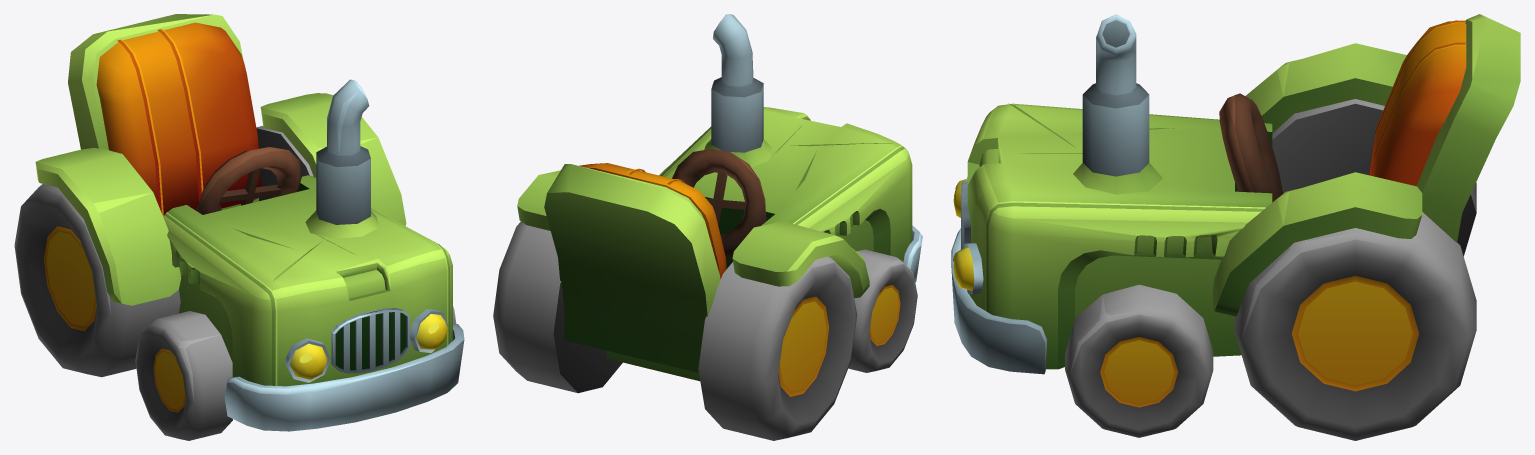
The model's file is truck_001.fbx.
3 views of the same model, side by side, from view 1: azimuth 30°, elevation 25°; view 2: azimuth 150°, elevation 25°; view 3: azimuth 270°, elevation 25° (orthographic). The views are drawn at different scales.
Visible parts, largest first — view 1: truck.001, truckwheel.003, truckwheel.002, trucktorus.001; view 2: truck.001, truckwheel.003, truckwheel.002, trucktorus.001; view 3: truck.001, truckwheel.003, truckwheel.006, trucktorus.001.
Boxes of the visible parts, left/top/right/bottom form: truck.001: left=35, top=14, right=464, bottom=431; truckwheel.003: left=14, top=126, right=313, bottom=377; truckwheel.002: left=135, top=311, right=232, bottom=440; trucktorus.001: left=196, top=147, right=301, bottom=214; truck.001: left=517, top=14, right=922, bottom=381; truckwheel.003: left=493, top=221, right=857, bottom=440; truckwheel.002: left=848, top=249, right=917, bottom=372; trucktorus.001: left=672, top=149, right=766, bottom=259; truck.001: left=951, top=14, right=1520, bottom=374; truckwheel.003: left=1234, top=99, right=1476, bottom=440; truckwheel.006: left=1065, top=284, right=1213, bottom=437; trucktorus.001: left=1219, top=93, right=1282, bottom=202.
Size of the model in its own units: 170 by 178 by 242.
1 material, 1 textured.
